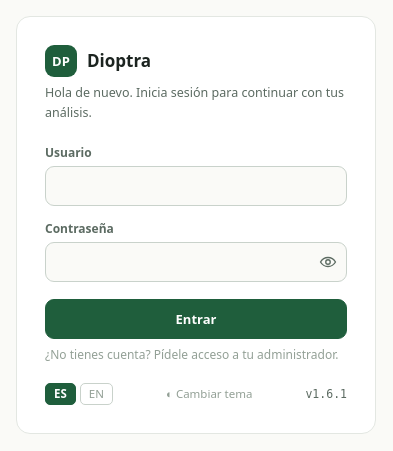
Test: login screen › switches the whole screen to English
Click the button "EN" at {"x": 96, "y": 394}, box left=80, top=383, right=113, bottom=405
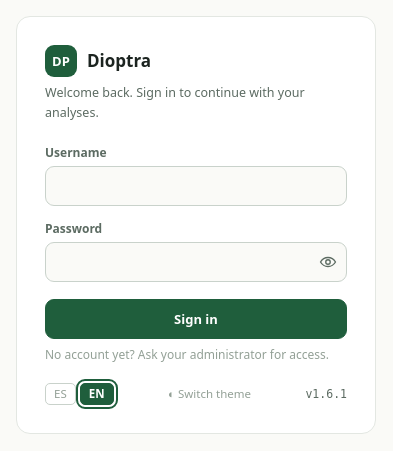
Now the button "Sign in" is shown, box left=45, top=299, right=347, bottom=339
Now the text "Welcome back. Sign in to continue with your analyses." is shown, box left=45, top=83, right=347, bottom=123
